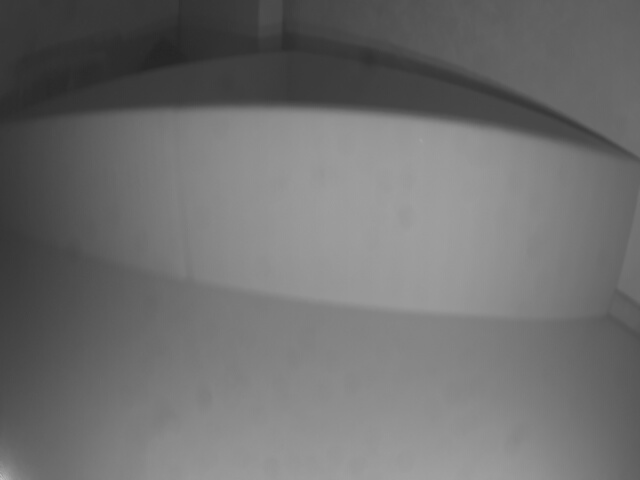Red: (7, 116, 639, 321)
